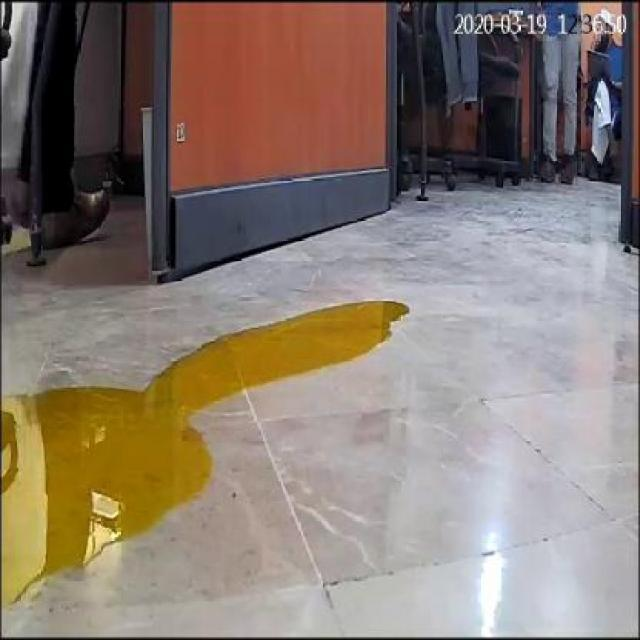spill: (3, 298, 409, 608)
